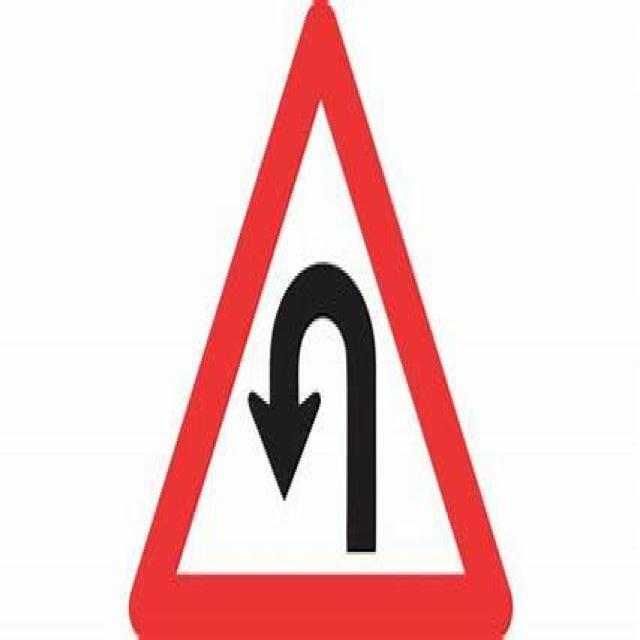LEFT_HAIR_PIN_BEND: (128, 0, 514, 640)
